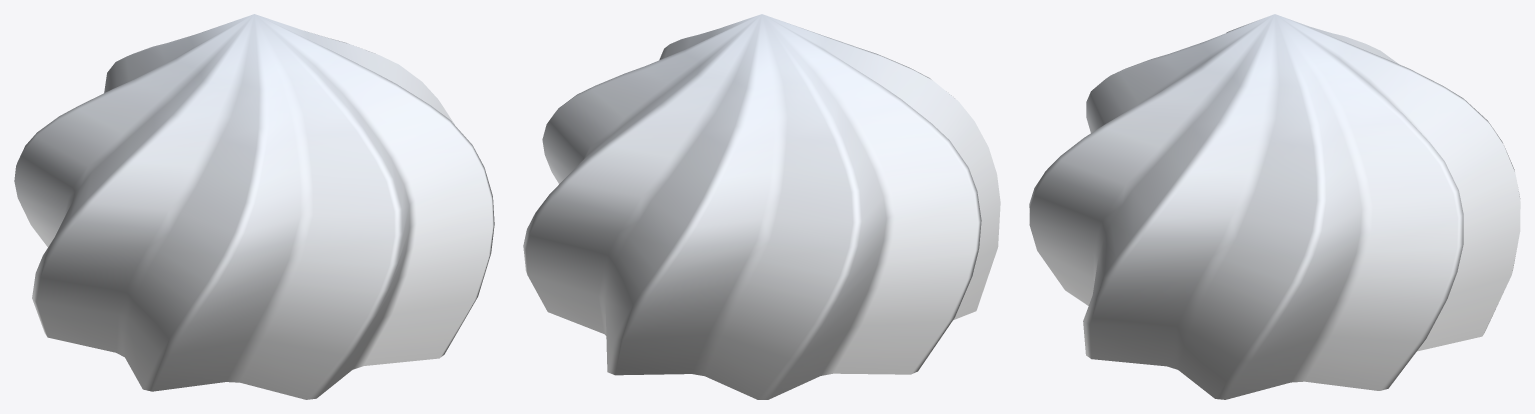
Rendered from Cream_01.glb.
The picture shows the model from 3 angles, left to right: view 1: azimuth 30°, elevation 25°; view 2: azimuth 150°, elevation 25°; view 3: azimuth 270°, elevation 25°; orthographic projection.
Visible parts, largest first — view 1: Cream_01; view 2: Cream_01; view 3: Cream_01.
Boxes of the visible parts, left/top/right/bottom form: Cream_01: left=14, top=14, right=494, bottom=399; Cream_01: left=523, top=14, right=1000, bottom=399; Cream_01: left=1029, top=14, right=1520, bottom=399.
Bounding box in the file's own units: 5.5 × 3.67 × 5.5.
Materials: 1 (1 with a texture image).
